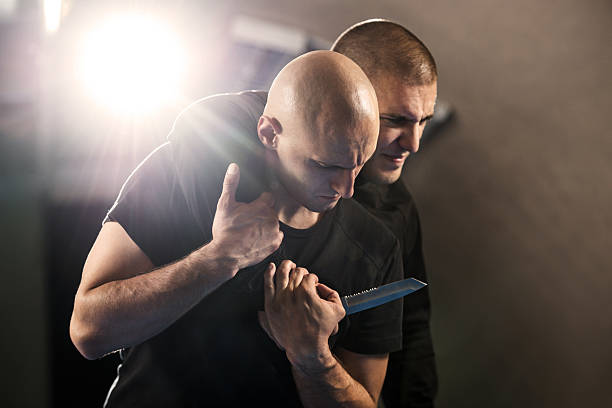knife: (341, 274, 431, 315)
